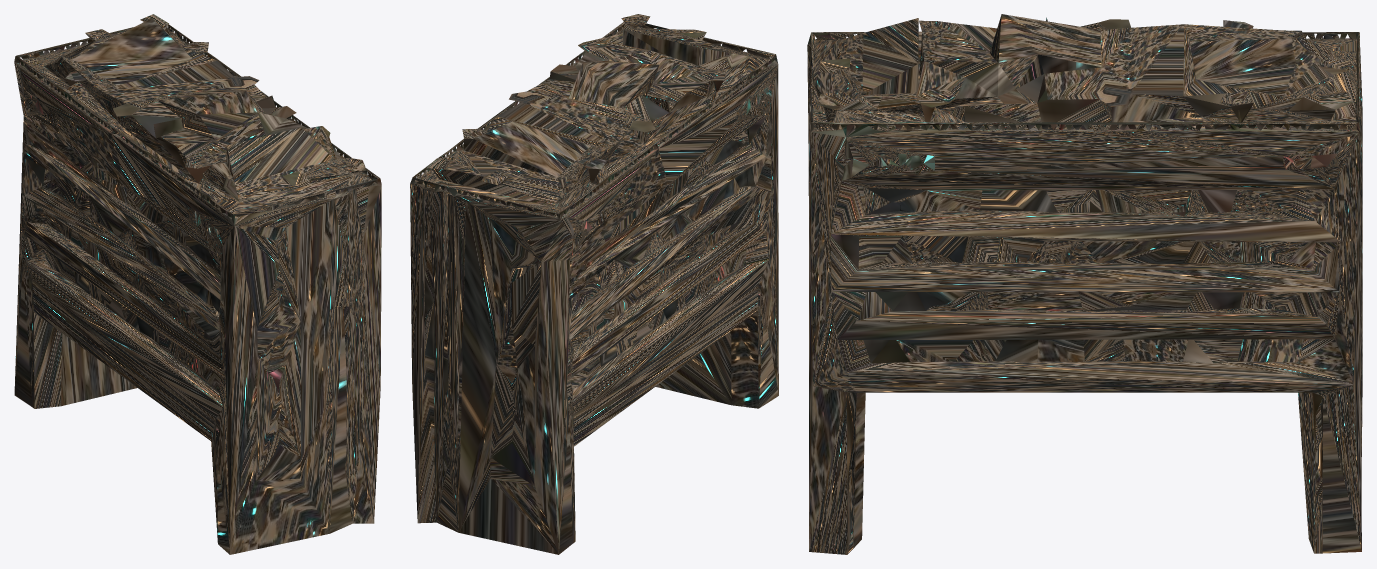
File: m07_far.glb
3 renders of one model, left to right at view 1: azimuth 30°, elevation 25°; view 2: azimuth 150°, elevation 25°; view 3: azimuth 270°, elevation 25°, orthographic. The views are drawn at different scales.
Visible parts, largest first — view 1: m07_far; view 2: m07_far; view 3: m07_far.
Part boxes in pixels (x1,y1,x2,y2): m07_far: [14, 14, 381, 554]; m07_far: [410, 14, 778, 554]; m07_far: [807, 14, 1362, 554].
Bounding box in the file's own units: 57.62 × 132 × 139.
1 material, 1 textured.
